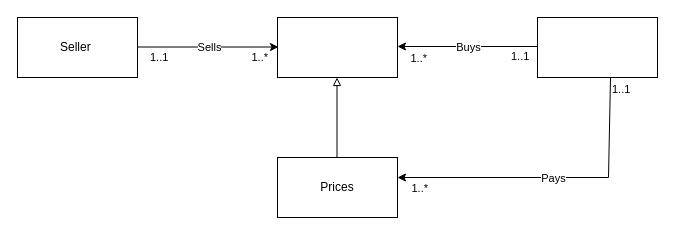
This 675x235 diagram has some shape labels left out. Each missing label, with the centre of its shape:
"Buyer" goes at (x=597, y=47).
"Items" goes at (x=337, y=47).
